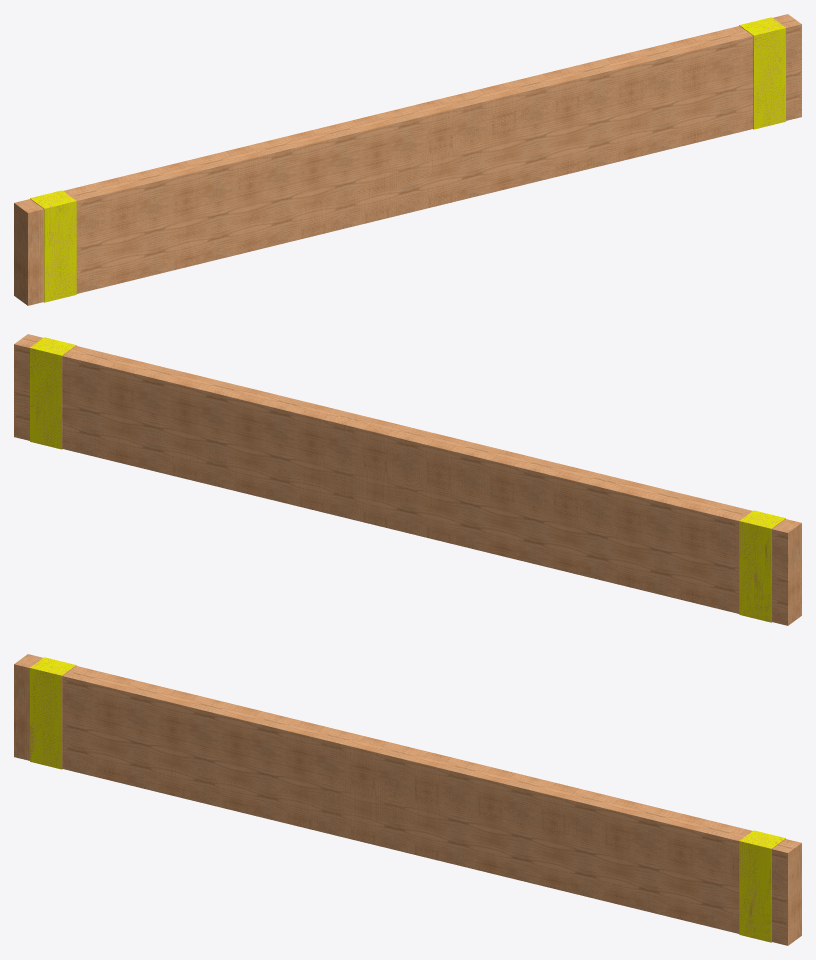
3 views of the same model, one above another, from view 1: azimuth 30°, elevation 25°; view 2: azimuth 150°, elevation 25°; view 3: azimuth 330°, elevation 25° (orthographic).
Visible parts, largest first — view 1: SketchUp (×5); view 2: SketchUp (×5); view 3: SketchUp (×5).
Part boxes in pixels (left/top/right/bottom): SketchUp (×5): left=14, top=14, right=801, bottom=305; SketchUp (×5): left=14, top=334, right=801, bottom=625; SketchUp (×5): left=14, top=654, right=801, bottom=945.
Size of the model in its own units: 48 by 1.56 by 5.56.
Materials: 2 (1 with a texture image).
